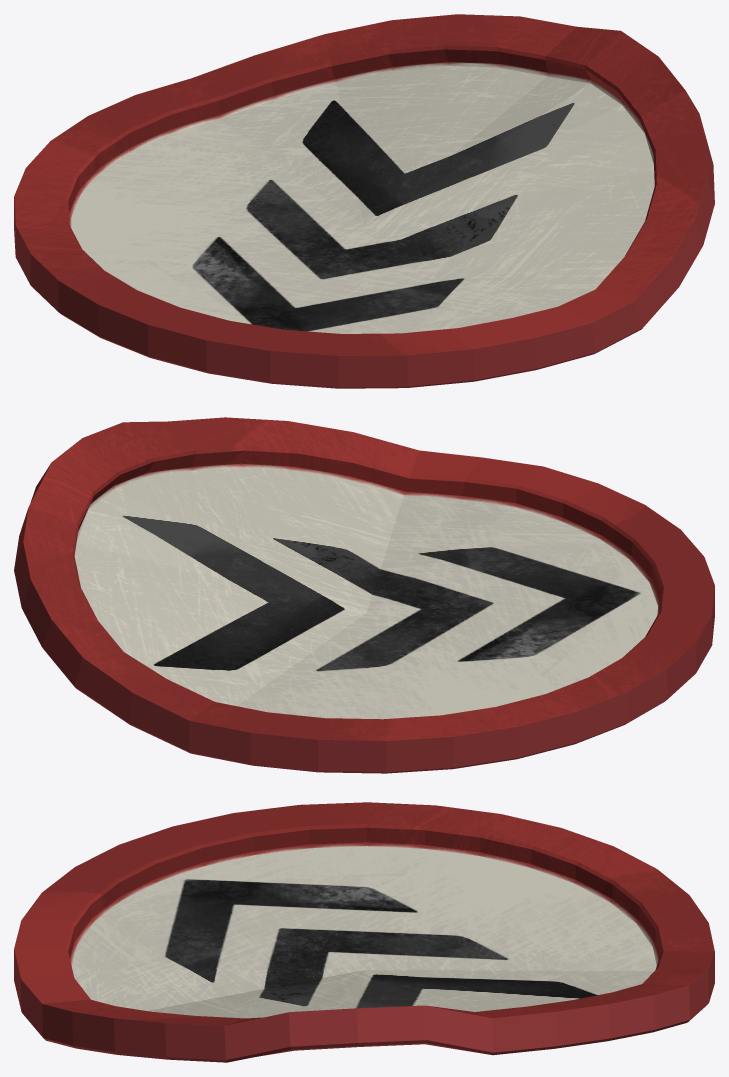
3 views of the same model, one above another, from view 1: azimuth 30°, elevation 25°; view 2: azimuth 150°, elevation 25°; view 3: azimuth 270°, elevation 25° (orthographic).
Visible parts, largest first — view 1: Cylinder.077; view 2: Cylinder.077; view 3: Cylinder.077.
Part boxes in pixels (bbox=[...]): Cylinder.077: bbox=[14, 14, 714, 388]; Cylinder.077: bbox=[14, 417, 714, 773]; Cylinder.077: bbox=[14, 802, 714, 1062].
Bounding box in the file's own units: 200 × 37.9 × 200.
Materials: 3 (1 with a texture image).
